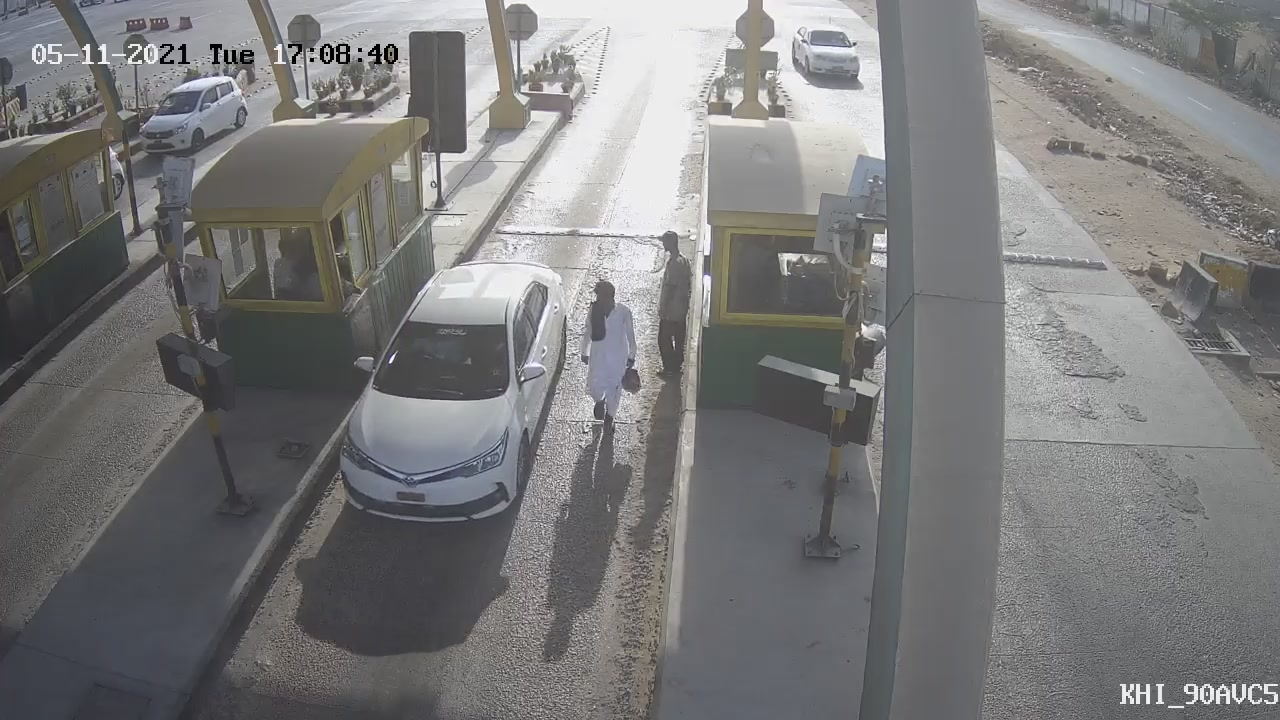F1: (312, 242, 583, 540)
